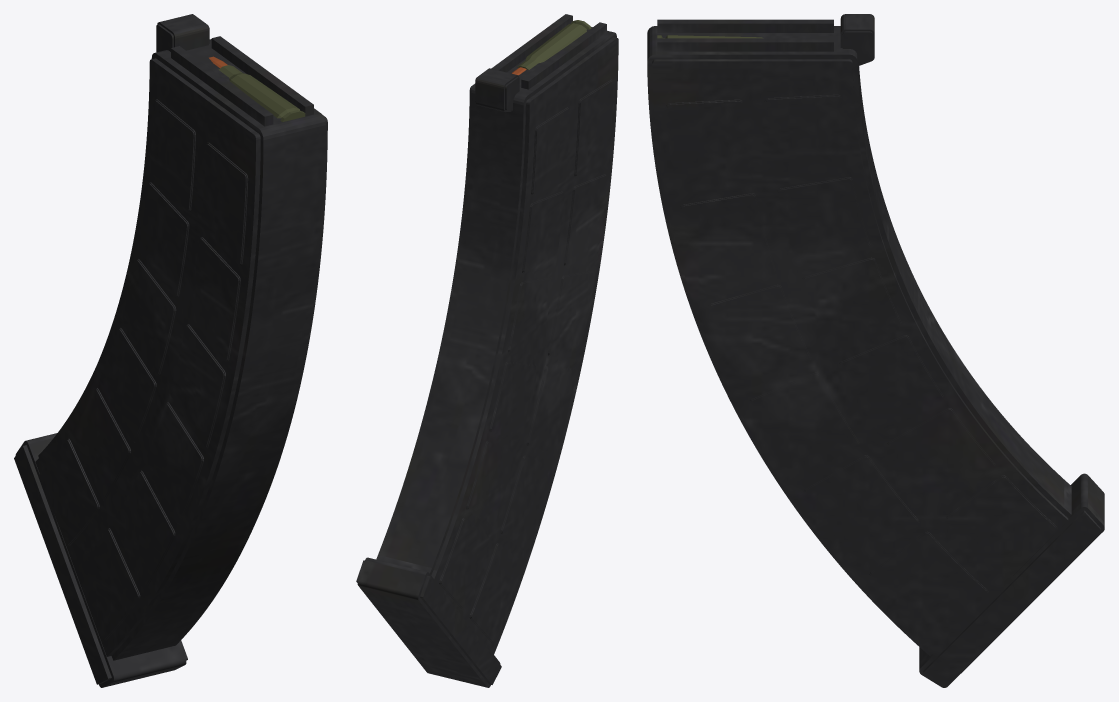
Rendered from carregador_762_30_grade_gasto.glb.
3 views of the same model, side by side, from view 1: azimuth 30°, elevation 25°; view 2: azimuth 150°, elevation 25°; view 3: azimuth 270°, elevation 25° (orthographic). The views are drawn at different scales.
Parts seen in each view (by area): view 1: carregador_762_30_grade_gasto_polimero_gasto, carregador_762_30_grade_gasto_laca_verde; view 2: carregador_762_30_grade_gasto_polimero_gasto, carregador_762_30_grade_gasto_laca_verde; view 3: carregador_762_30_grade_gasto_polimero_gasto.
Part boxes in pixels (x1,y1,x2,y2): carregador_762_30_grade_gasto_polimero_gasto: (14,14,327,687); carregador_762_30_grade_gasto_laca_verde: (218,65,305,121); carregador_762_30_grade_gasto_polimero_gasto: (356,14,618,687); carregador_762_30_grade_gasto_laca_verde: (517,20,591,69); carregador_762_30_grade_gasto_polimero_gasto: (647,14,1104,687).
Size of the model in its own units: 0.0256 by 0.211 by 0.1347.
3 materials, 1 textured.
